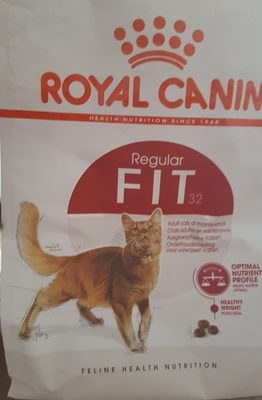Regular FIT 32: (13, 20, 249, 380)
